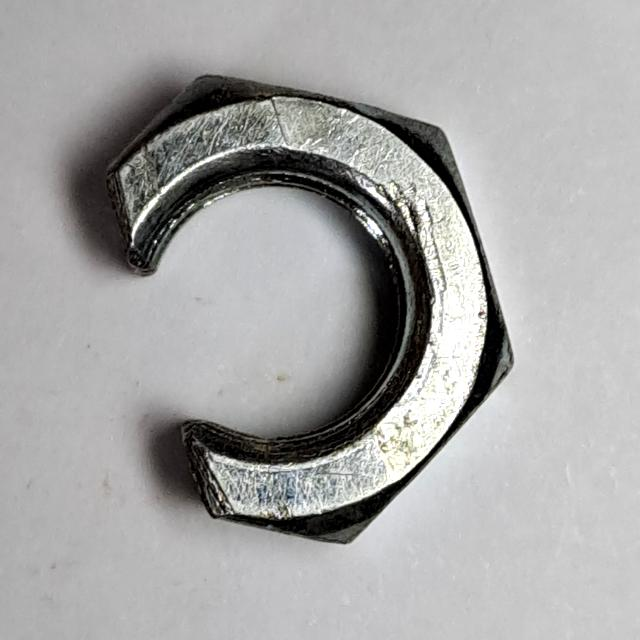Fracture: (92, 64, 532, 564)
